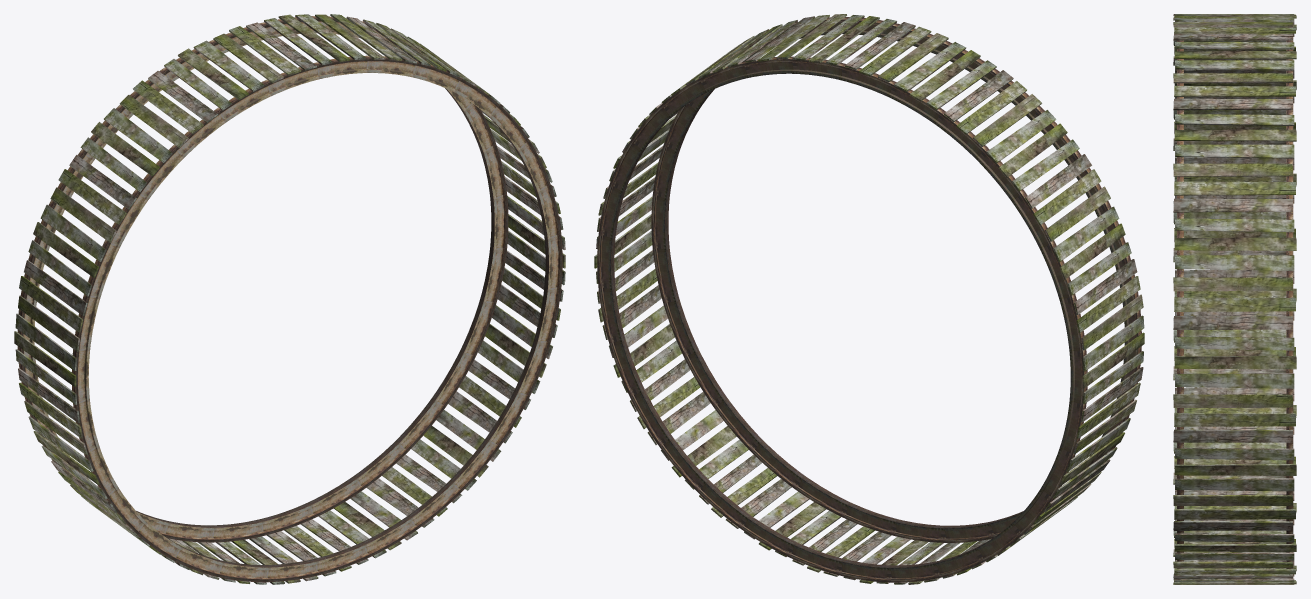
The model's file is wheel ramp.fbx.
The picture shows the model from 3 angles, left to right: view 1: azimuth 30°, elevation 25°; view 2: azimuth 150°, elevation 25°; view 3: azimuth 270°, elevation 25°; orthographic projection.
Parts seen in each view (by area): view 1: wheel ramp; view 2: wheel ramp; view 3: wheel ramp.
Boxes of the visible parts, x1,y1,x2,y2 form: wheel ramp: (14,14,565,584); wheel ramp: (594,14,1144,584); wheel ramp: (1173,14,1296,584).
Size of the model in its own units: 955 by 955 by 206.
